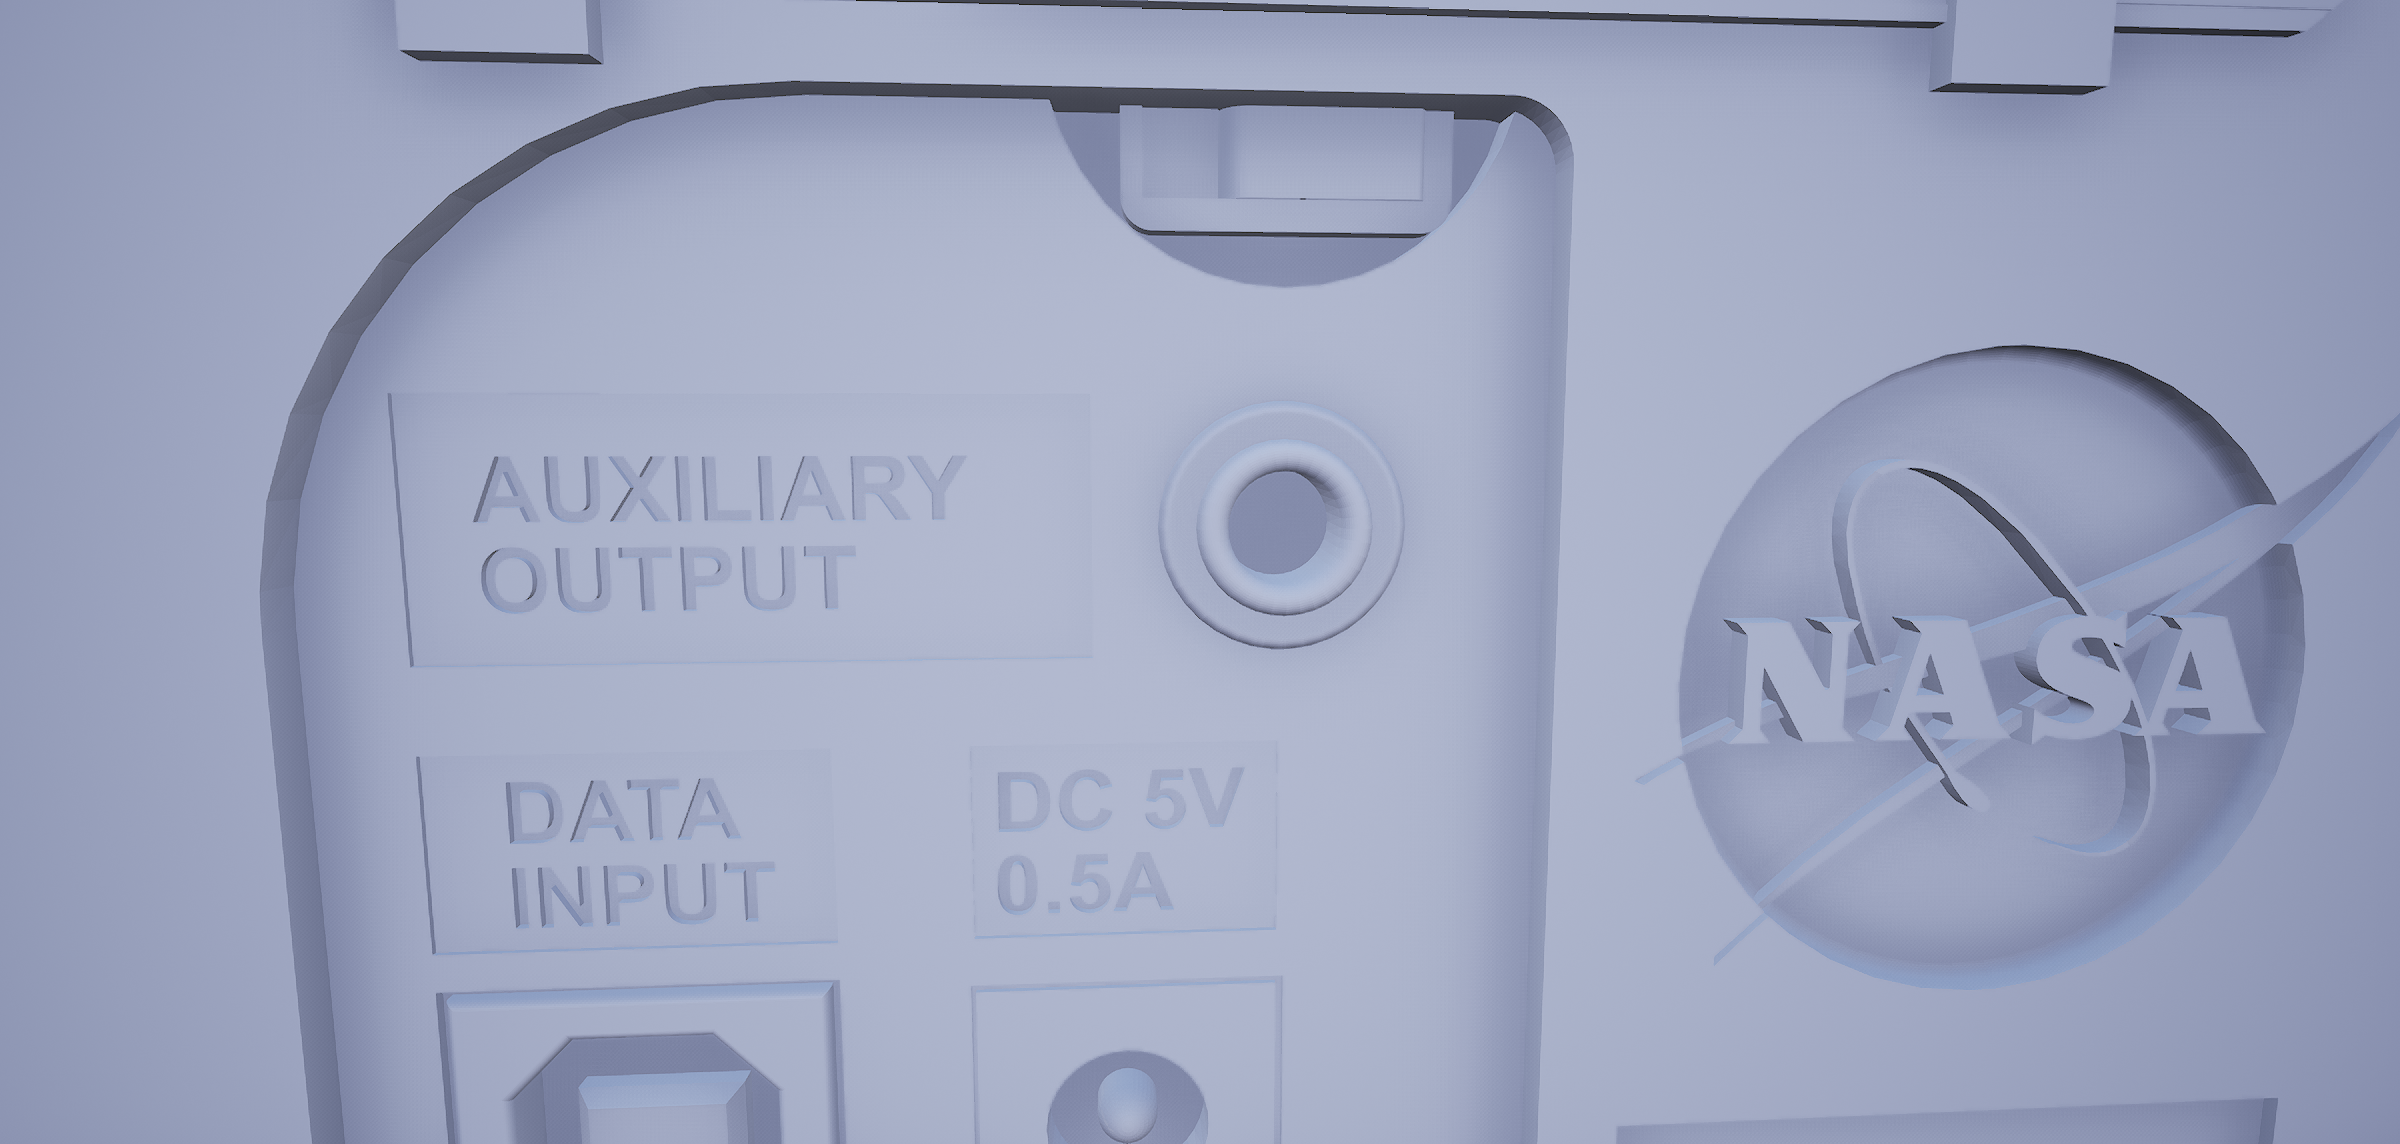aux: (1151, 391, 1433, 672)
dc: (1033, 1046, 1217, 1144)
usb: (493, 1023, 805, 1144)
